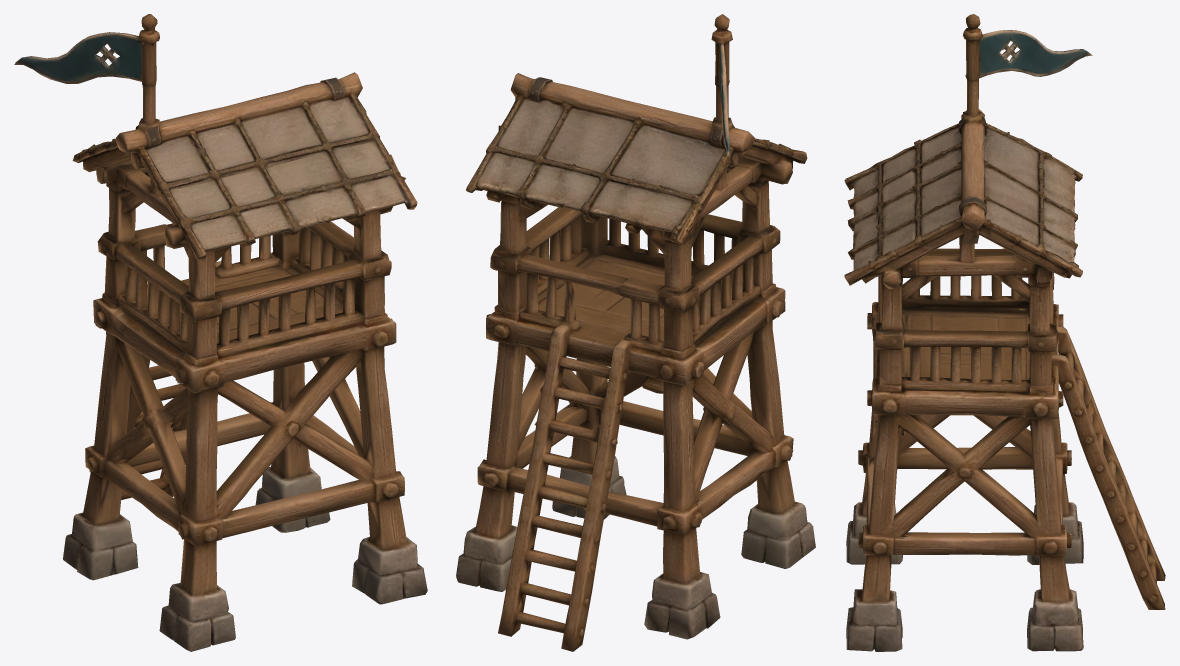
The model's file is gozcu-sv1.glb.
3 renders of one model, left to right at view 1: azimuth 30°, elevation 25°; view 2: azimuth 150°, elevation 25°; view 3: azimuth 270°, elevation 25°, orthographic. The views are drawn at different scales.
Visible parts, largest first — view 1: tripo_node_de770711-b4ab-4528-a70a-0098d8ff0c2b; view 2: tripo_node_de770711-b4ab-4528-a70a-0098d8ff0c2b; view 3: tripo_node_de770711-b4ab-4528-a70a-0098d8ff0c2b.
Part boxes in pixels (box(x1,y1,x2,y2)): tripo_node_de770711-b4ab-4528-a70a-0098d8ff0c2b: box(14, 14, 427, 651); tripo_node_de770711-b4ab-4528-a70a-0098d8ff0c2b: box(456, 14, 815, 651); tripo_node_de770711-b4ab-4528-a70a-0098d8ff0c2b: box(844, 14, 1165, 651).
Size of the model in its own units: 0.51 by 1 by 0.5369.
Materials: 1 (1 with a texture image).
